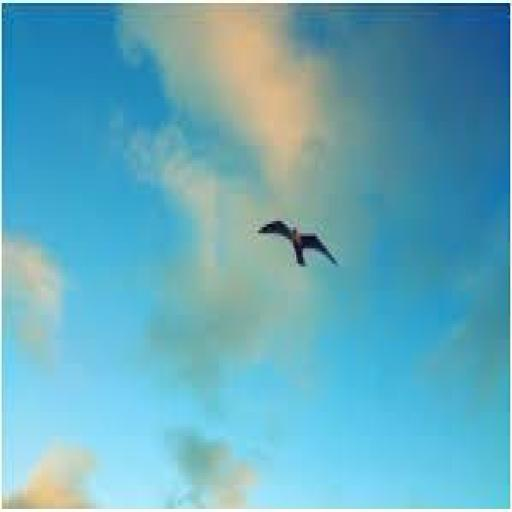birds: (256, 217, 344, 276)
